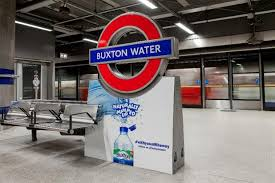London Underground: (90, 12, 172, 93)
